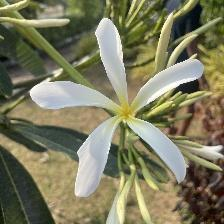champaka: (31, 13, 207, 201)
